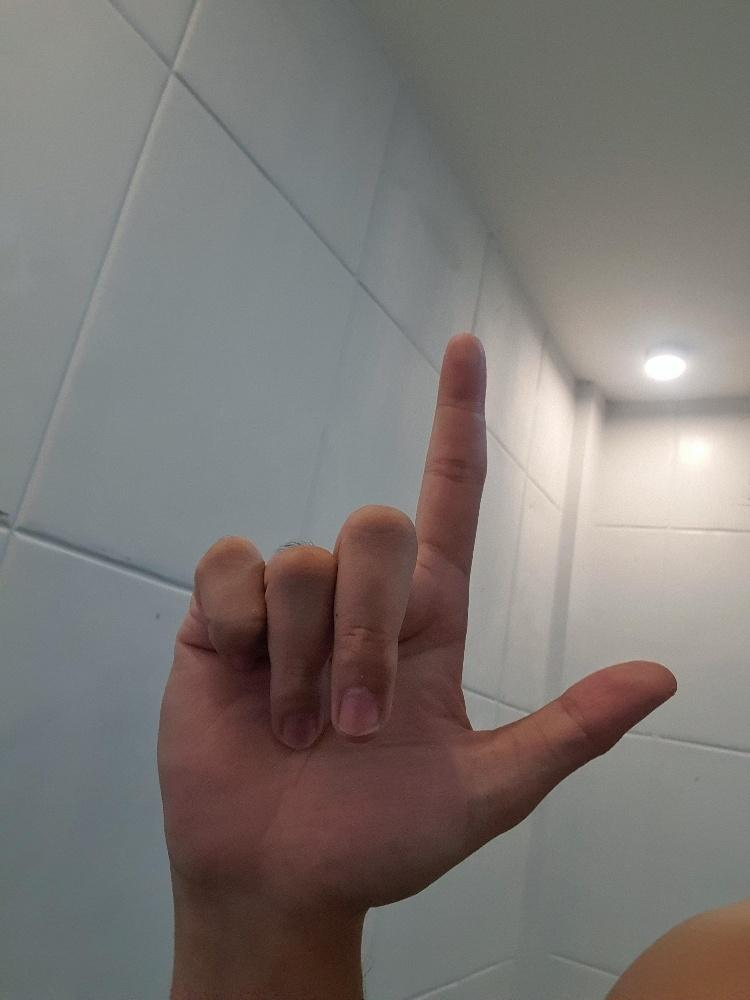l: (154, 325, 680, 921)
